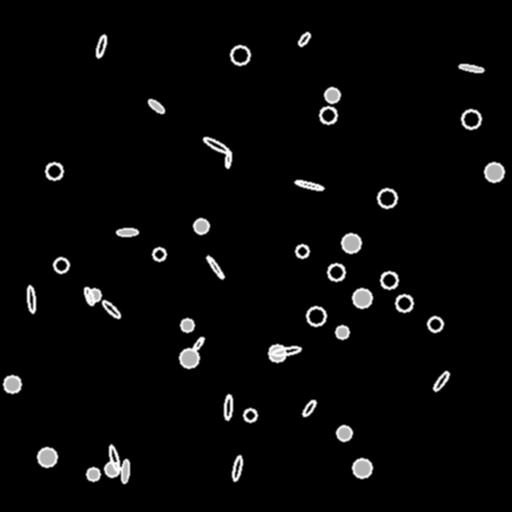pseudomonas: (202, 136, 230, 154), (205, 255, 225, 279), (101, 299, 121, 319), (432, 370, 450, 392), (107, 444, 121, 472), (146, 97, 166, 115), (294, 179, 324, 191), (94, 34, 108, 58), (301, 398, 317, 418), (272, 346, 300, 356), (26, 285, 36, 313), (232, 455, 242, 481), (459, 63, 483, 73), (297, 31, 311, 47), (191, 336, 205, 352), (83, 287, 95, 305), (224, 395, 232, 419), (121, 459, 129, 483), (224, 150, 232, 168), (117, 229, 137, 235)
synechocystis: (353, 289, 371, 307), (342, 234, 360, 252), (180, 349, 198, 367), (307, 307, 325, 325), (353, 459, 371, 477), (462, 110, 480, 128), (378, 189, 396, 207), (485, 163, 503, 181), (38, 448, 56, 466), (231, 46, 249, 64), (269, 345, 285, 361), (396, 295, 412, 311), (328, 264, 344, 280), (46, 163, 62, 179), (4, 376, 20, 392), (381, 272, 397, 288), (320, 107, 336, 123), (428, 317, 442, 331), (337, 426, 351, 440), (194, 219, 208, 233), (105, 462, 119, 476), (54, 258, 68, 272), (325, 88, 339, 102), (153, 248, 165, 260), (244, 409, 256, 421), (88, 289, 100, 301), (87, 468, 99, 480), (336, 326, 348, 338), (296, 245, 308, 257), (181, 319, 193, 331)
